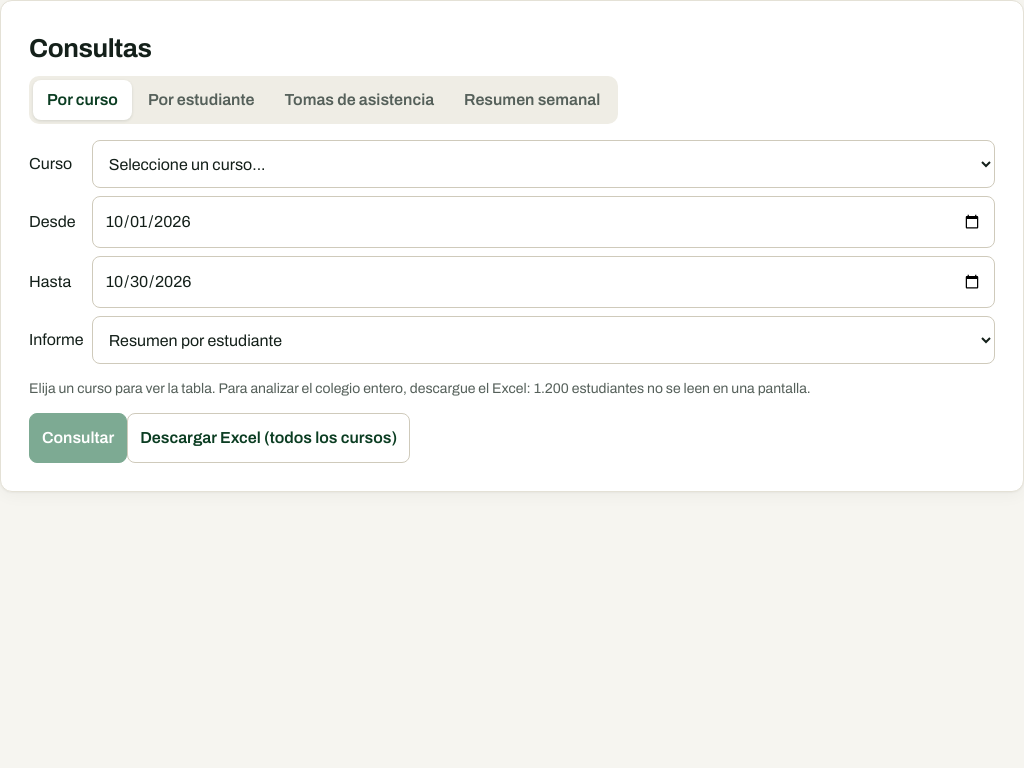
it: Consultas › por estudiante: busca, elige y muestra las marcas con quien las registro
The image size is (1024, 768).
Click the button "Por estudiante" at (201, 100), box [134,80,268,120]
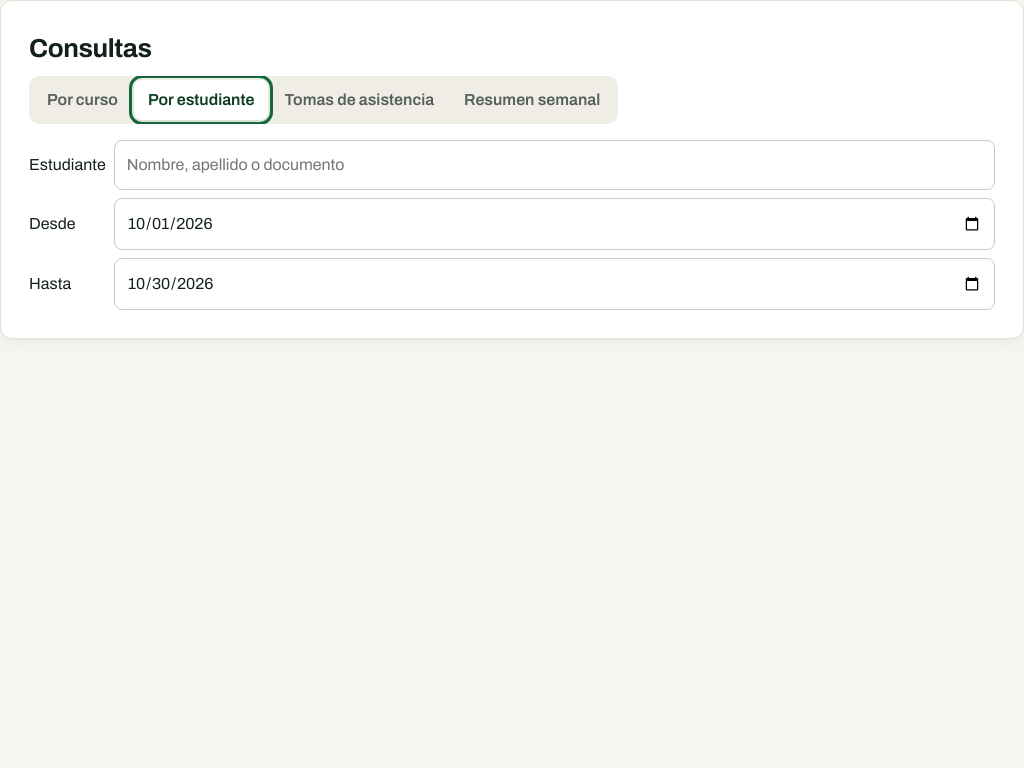
Type "carla" into the search field labelled "Estudiante" at (554, 165), box [114,140,995,190]
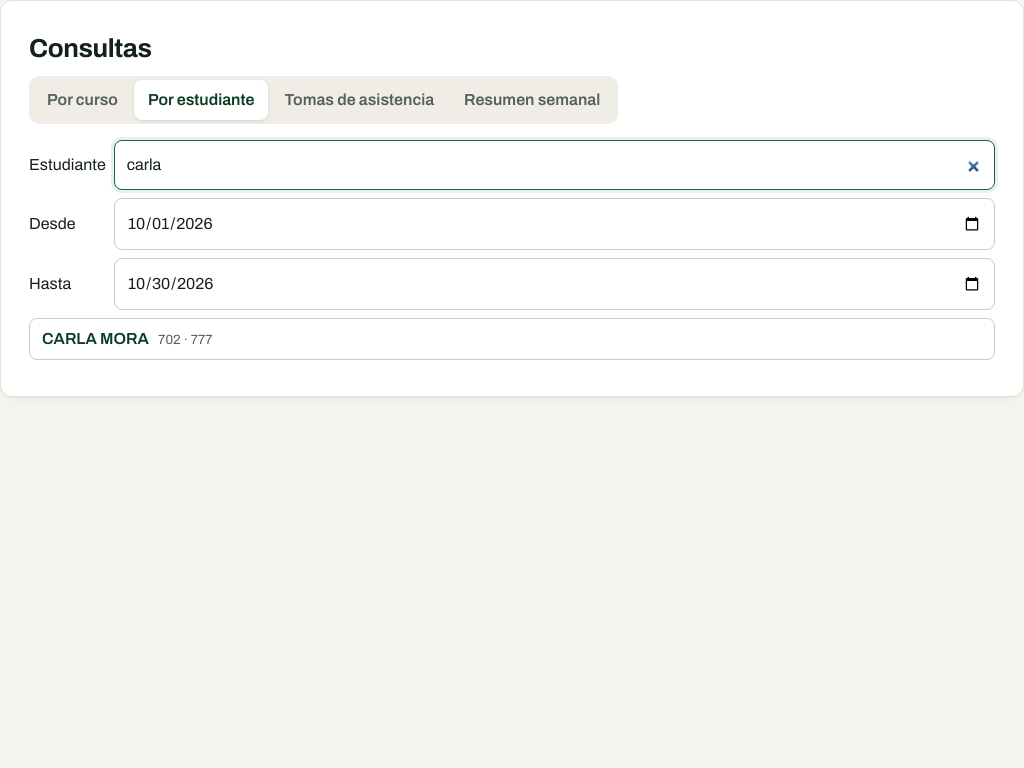
Click the button "CARLA MORA 702 · 777" at (95, 338), box [29,318,995,360]
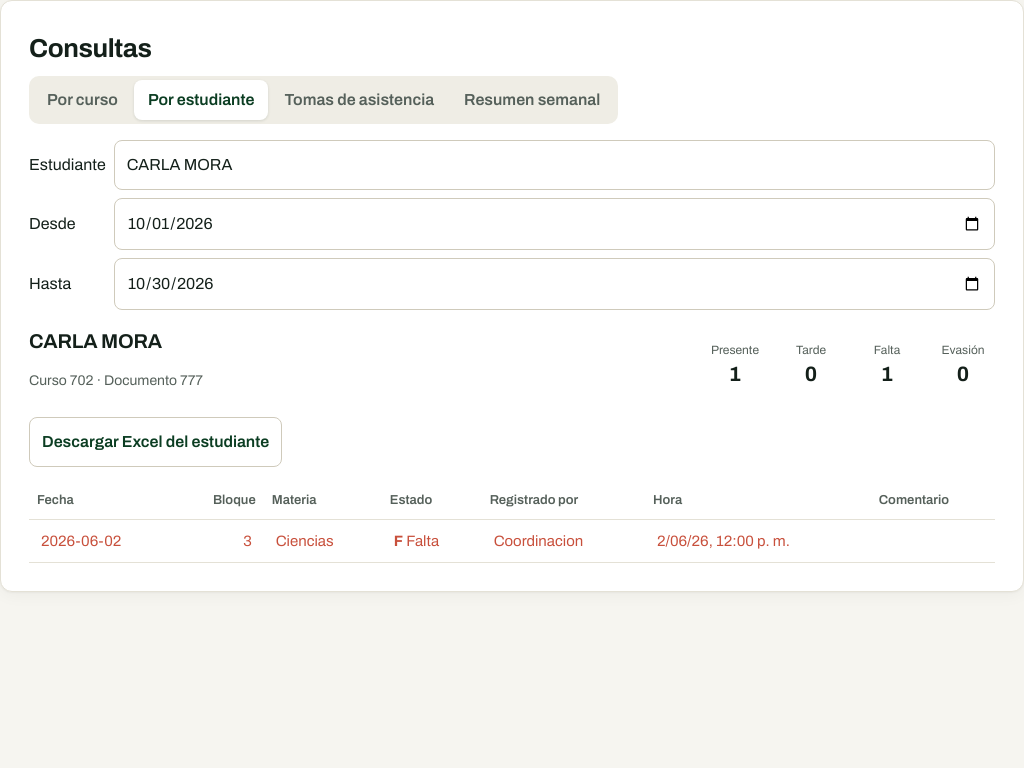
Expected: the text "Coordinacion" is shown, [482,519,645,562]
Expected: the text "Ciencias" is shown, [264,519,382,562]
Expected: the cell "F Falta" is shown, [382,519,482,562]
